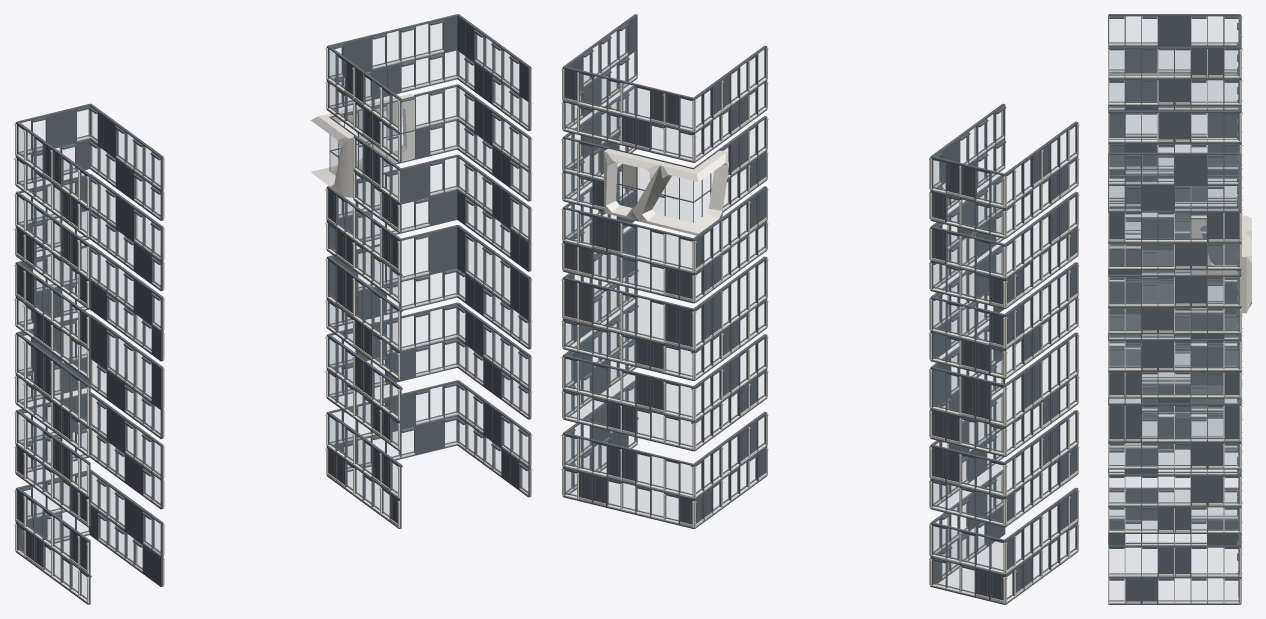
Rendered from fuji-civic-facade.glb.
3 renders of one model, left to right at view 1: azimuth 30°, elevation 25°; view 2: azimuth 150°, elevation 25°; view 3: azimuth 270°, elevation 25°, orthographic. The views are drawn at different scales.
Parts seen in each view (by area): view 1: Facade_graphite, Facade_clear, Facade_ceramic; view 2: Facade_graphite, Facade_clear, Facade_ceramic; view 3: Facade_graphite, Facade_clear, Facade_ceramic.
Part boxes in pixels (bbox=[...]): Facade_graphite: bbox=[15, 14, 531, 604]; Facade_clear: bbox=[19, 23, 527, 597]; Facade_ceramic: bbox=[14, 23, 532, 603]; Facade_graphite: bbox=[562, 14, 1078, 604]; Facade_clear: bbox=[566, 27, 1074, 597]; Facade_ceramic: bbox=[561, 28, 1079, 603]; Facade_graphite: bbox=[1108, 14, 1241, 604]; Facade_clear: bbox=[1109, 17, 1238, 599]; Facade_ceramic: bbox=[1108, 15, 1251, 603].
Size of the model in its own units: 126 by 116 by 38.55.
